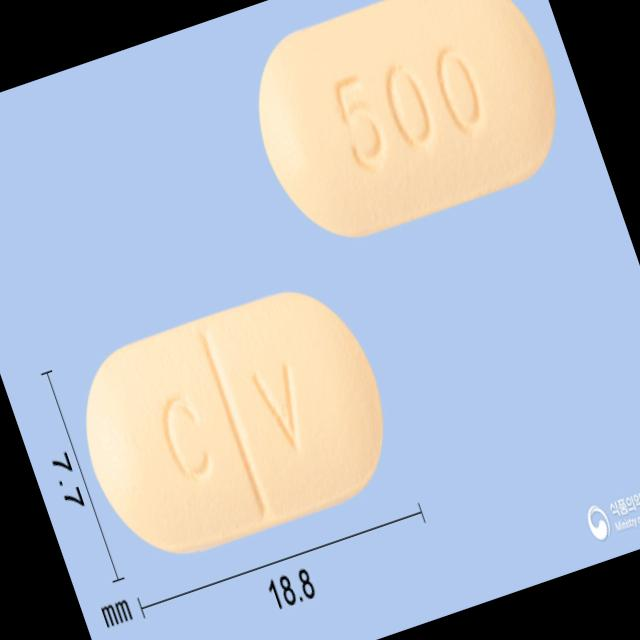Cravit: (58, 268, 410, 575), (231, 0, 582, 256)
